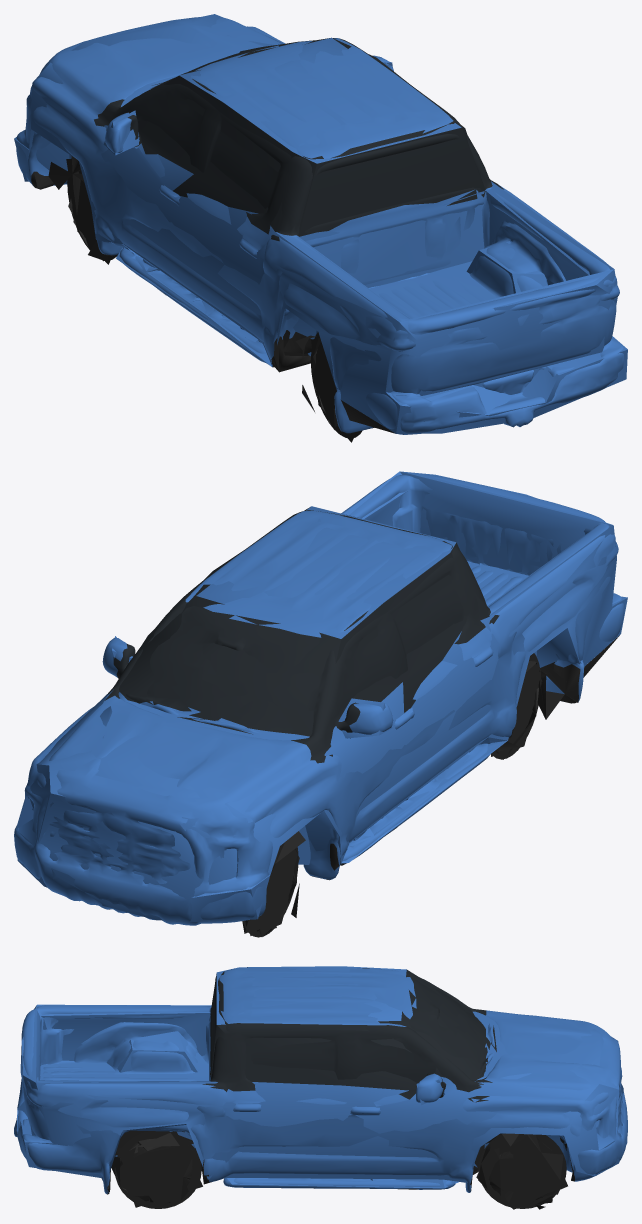
File: toyota-tundra.glb
The picture shows the model from 3 angles, top to bottom: view 1: azimuth 30°, elevation 25°; view 2: azimuth 150°, elevation 25°; view 3: azimuth 270°, elevation 25°; orthographic projection. The views are drawn at different scales.
Visible parts, largest first — view 1: body, far; view 2: body, far; view 3: body, far.
Part boxes in pixels (x1,y1,x2,y2): body: (16,17,623,438); far: (14,14,627,442); body: (14,474,624,937); far: (15,471,627,935); body: (14,968,627,1209); far: (17,966,627,1209).
Bounding box in the file's own units: 2.44 × 2.02 × 6.09.
